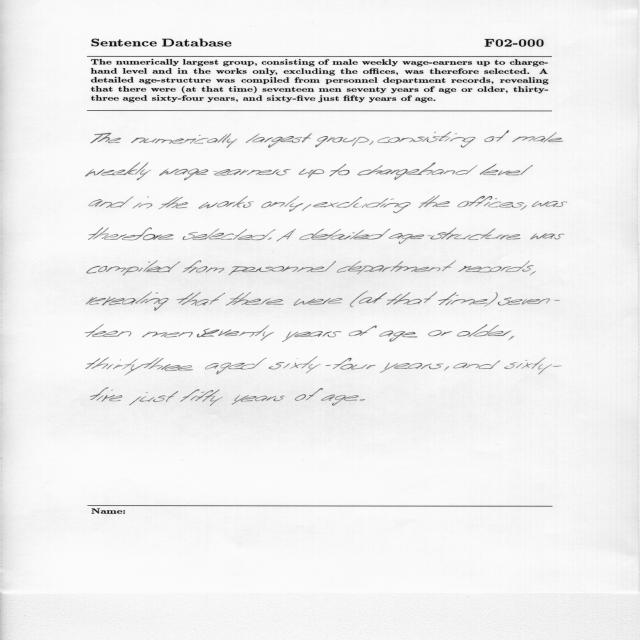word: (357, 162, 478, 180), (389, 228, 521, 244), (86, 357, 193, 376), (268, 357, 376, 374), (377, 131, 476, 148), (337, 261, 456, 275), (87, 291, 169, 311), (131, 133, 237, 148), (159, 169, 291, 181), (313, 197, 411, 213), (229, 261, 336, 275), (87, 261, 180, 276), (197, 325, 274, 341), (86, 163, 151, 181), (183, 229, 276, 241), (89, 228, 174, 241), (205, 358, 267, 375), (504, 357, 562, 375), (300, 229, 391, 240), (246, 133, 312, 148), (459, 261, 534, 273), (226, 292, 284, 306), (457, 196, 524, 208), (180, 389, 223, 406), (199, 196, 254, 209), (451, 292, 498, 307), (457, 324, 511, 337), (176, 292, 225, 306), (129, 391, 178, 405), (262, 196, 304, 212), (282, 331, 341, 342), (380, 363, 444, 373), (393, 291, 437, 305), (86, 324, 132, 337), (315, 136, 369, 147), (350, 291, 387, 307), (480, 164, 533, 175), (512, 132, 563, 143), (498, 297, 560, 306), (89, 196, 134, 208), (183, 260, 224, 273), (232, 395, 285, 405), (91, 387, 123, 402), (454, 360, 501, 369), (380, 331, 418, 342), (321, 395, 358, 406), (294, 298, 343, 306), (418, 196, 450, 208), (295, 388, 323, 401), (158, 197, 188, 209), (142, 332, 193, 338), (91, 133, 121, 143), (484, 130, 509, 142), (349, 326, 377, 336), (133, 196, 153, 209), (438, 292, 458, 305), (329, 164, 350, 176), (276, 229, 296, 241), (299, 169, 324, 178), (532, 201, 567, 207), (530, 234, 564, 240), (386, 294, 402, 305), (428, 330, 452, 336), (302, 204, 311, 211), (520, 205, 527, 210), (509, 336, 515, 341), (444, 366, 449, 371), (530, 271, 536, 275), (369, 141, 374, 145), (360, 399, 365, 401), (268, 238, 272, 240)
